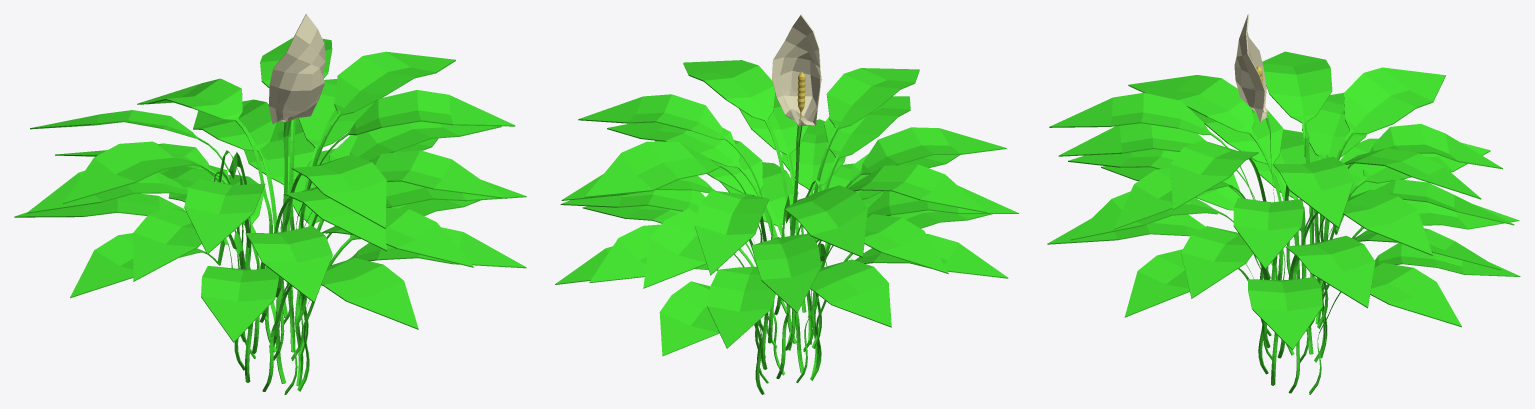
Rendered from Peace lily.fbx.
The picture shows the model from 3 angles, left to right: view 1: azimuth 30°, elevation 25°; view 2: azimuth 150°, elevation 25°; view 3: azimuth 270°, elevation 25°; orthographic projection. The views are drawn at different scales.
Visible parts, largest first — view 1: Leaves, Flower; view 2: Leaves, Flower; view 3: Leaves, Flower.
Part boxes in pixels (x1=…): Leaves: x1=14, y1=37, x2=526, y2=394; Flower: x1=268, y1=14, x2=325, y2=347; Leaves: x1=555, y1=60, x2=1018, y2=394; Flower: x1=772, y1=14, x2=821, y2=350; Leaves: x1=1047, y1=51, x2=1520, y2=394; Flower: x1=1234, y1=14, x2=1285, y2=279.
Size of the model in its own units: 573 by 484 by 552.
